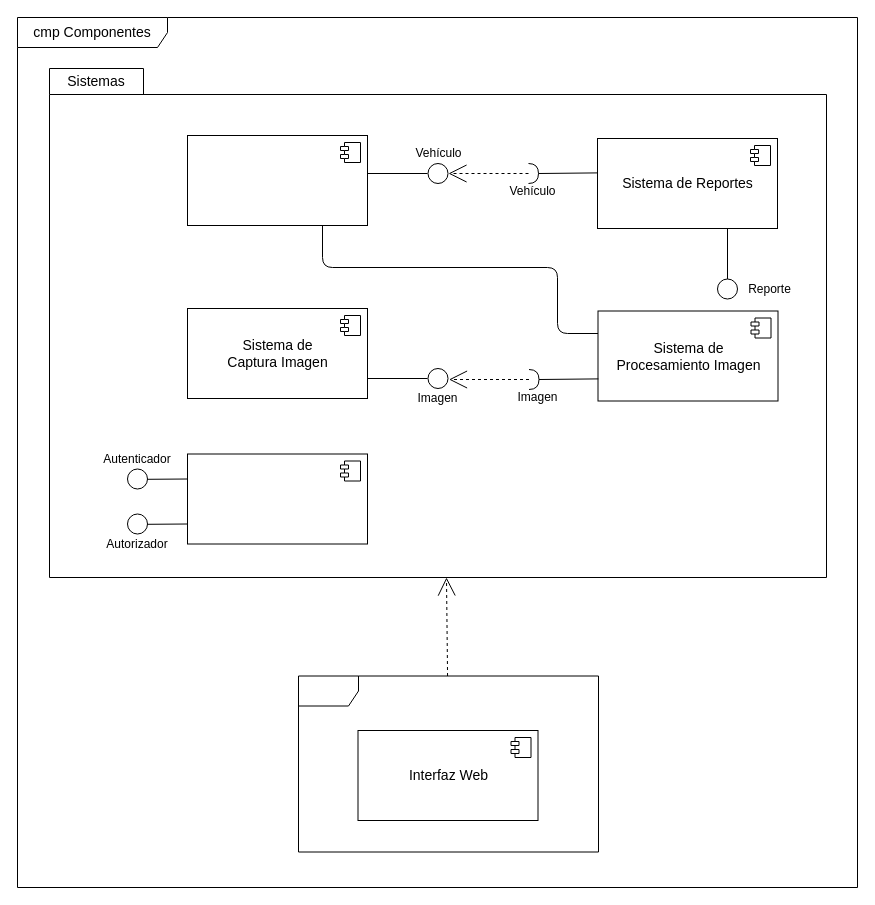
This 875x905 diagram has some shape labels left out. The box of each missing label's shape, as (x1, y1, x2, y2) in pixels:
GUI: (298, 675, 598, 852)
Sistema de Gestión de Visitas: (186, 134, 368, 226)
Sistema de Seguridad: (186, 453, 368, 544)
